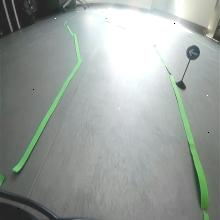left: (186, 44, 200, 61)
